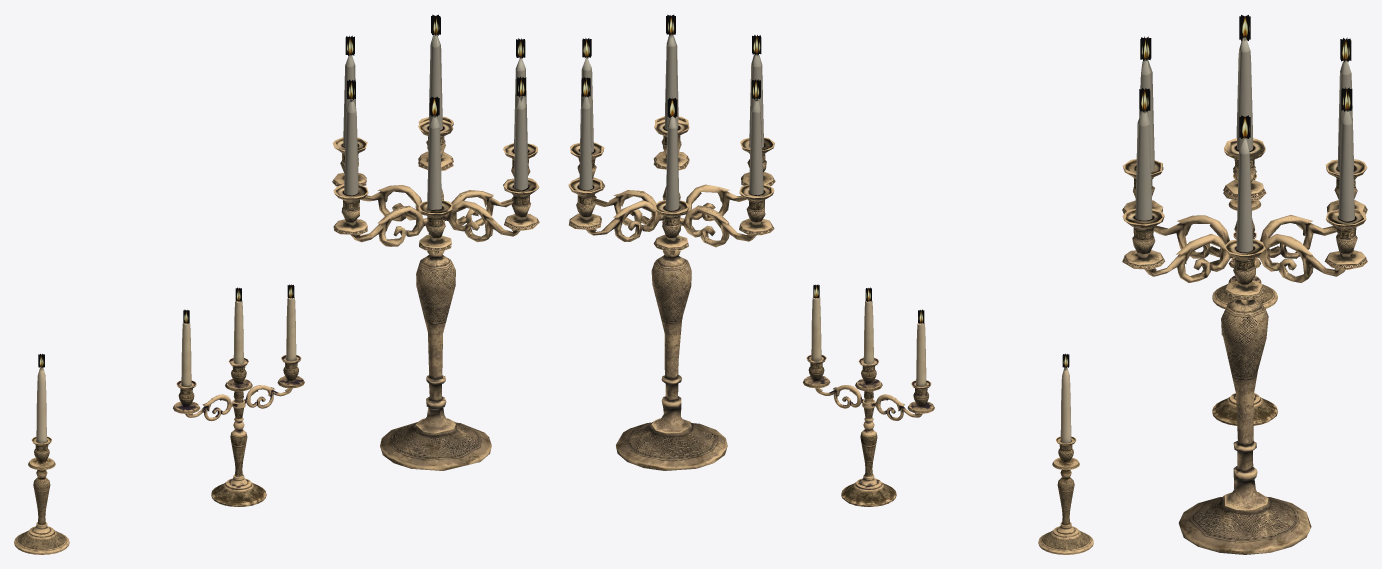
Rendered from brass_candleholders.glb.
The picture shows the model from 3 angles, left to right: view 1: azimuth 30°, elevation 25°; view 2: azimuth 150°, elevation 25°; view 3: azimuth 270°, elevation 25°; orthographic projection. The views are drawn at different scales.
Visible parts, largest first — view 1: brass_candleholder_03, brass_candleholder_02, brass_candleholder_01; view 2: brass_candleholder_03, brass_candleholder_02, brass_candleholder_01; view 3: brass_candleholder_03, brass_candleholder_02, brass_candleholder_01.
Part boxes in pixels (box(x1,y1,x2,y2)): brass_candleholder_03: box(38, 14, 539, 470); brass_candleholder_02: box(173, 296, 304, 506); brass_candleholder_01: box(14, 367, 69, 554); brass_candleholder_03: box(568, 14, 1069, 470); brass_candleholder_02: box(803, 296, 934, 506); brass_candleholder_01: box(1038, 366, 1093, 554); brass_candleholder_03: box(1122, 15, 1367, 554); brass_candleholder_02: box(1212, 232, 1277, 425); brass_candleholder_01: box(1212, 174, 1277, 308).
Bounding box in the file's own units: 1.05 × 0.8353 × 0.3643.
Materials: 5 (5 with a texture image).
